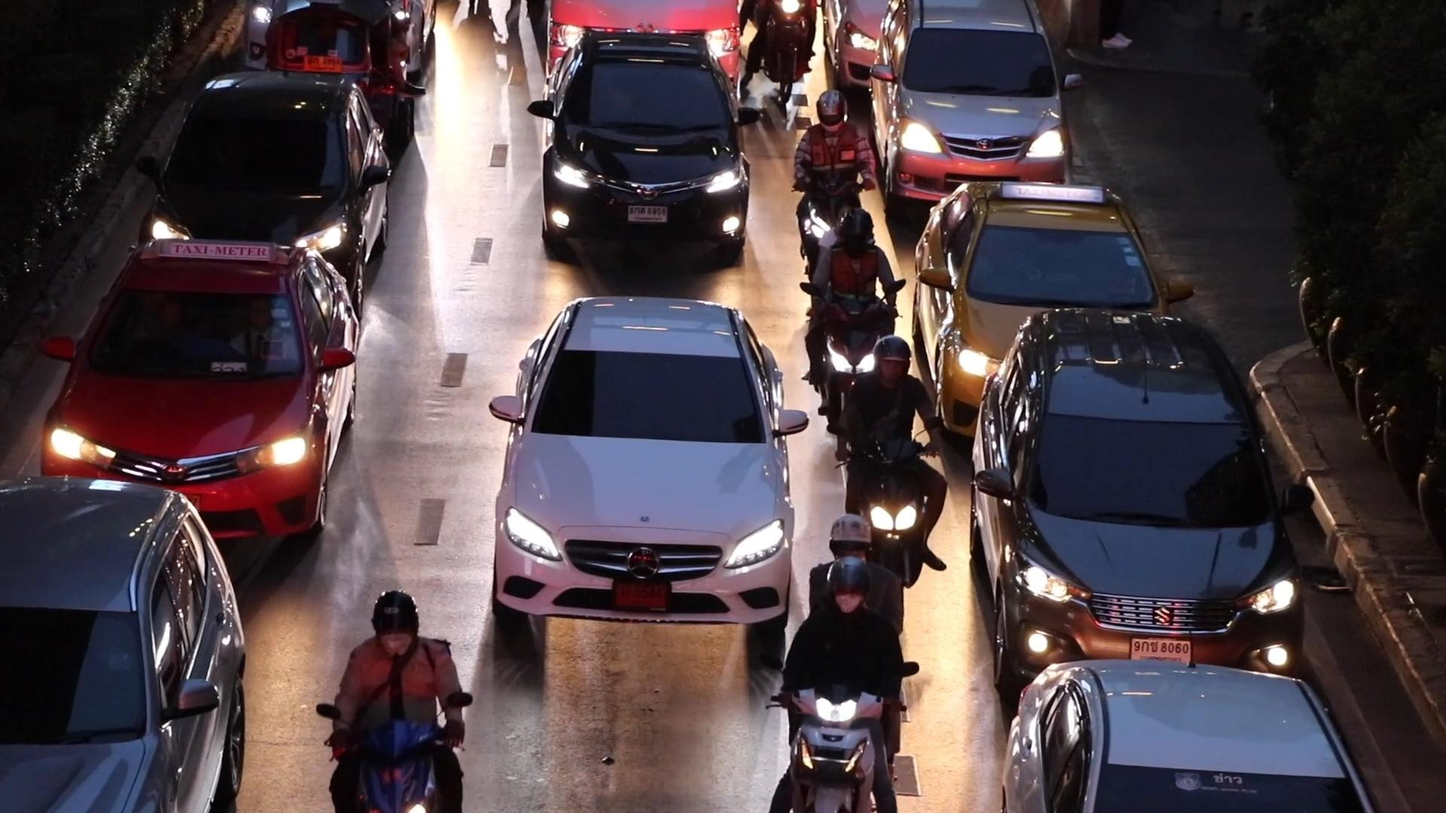driver: (764, 514, 919, 813), (316, 591, 472, 813), (826, 334, 948, 588), (800, 208, 907, 436), (791, 89, 877, 283)
helmet: (372, 590, 418, 662), (826, 556, 871, 616), (829, 514, 871, 564), (872, 334, 911, 384), (837, 208, 874, 255), (815, 89, 849, 134)
